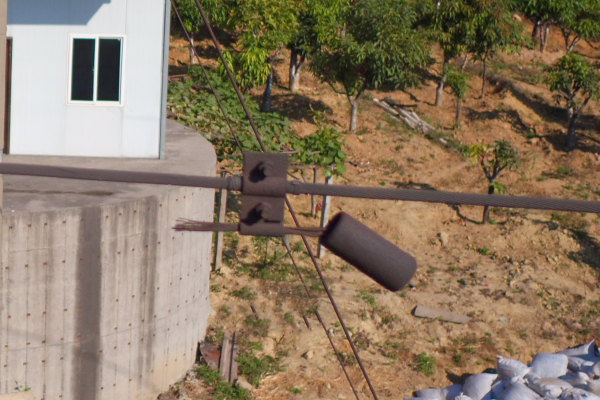damper_defect: (162, 145, 423, 294)
